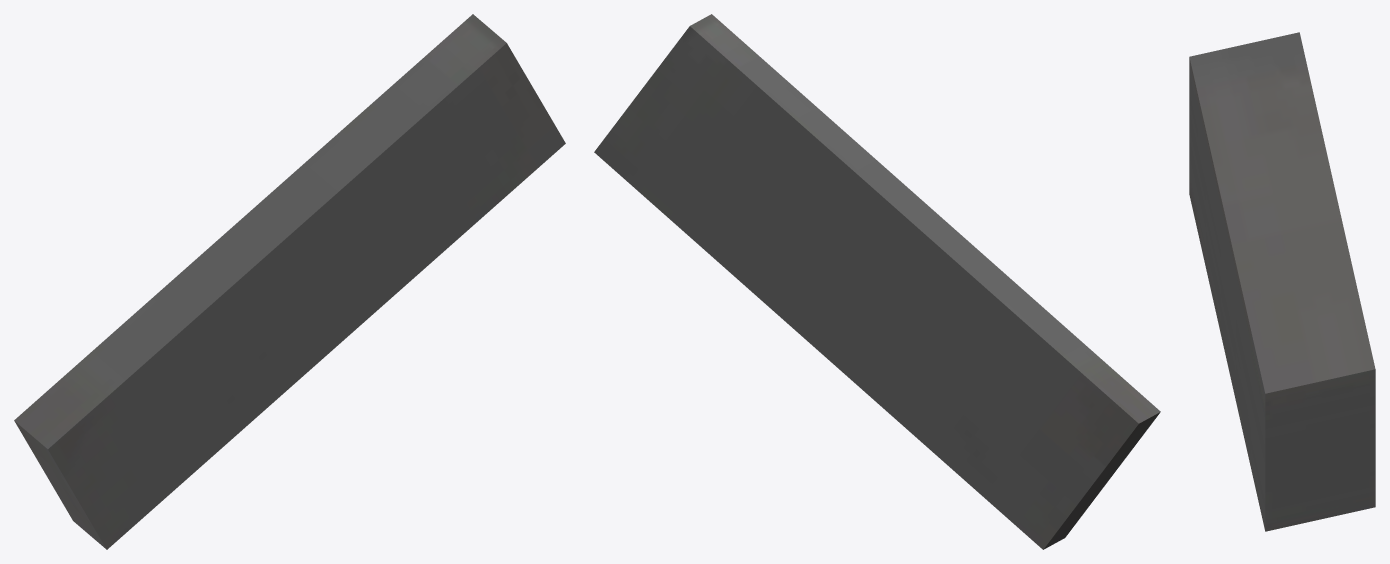
Rendered from fan_left__blade_0.glb.
3 views of the same model, side by side, from view 1: azimuth 30°, elevation 25°; view 2: azimuth 150°, elevation 25°; view 3: azimuth 270°, elevation 25° (orthographic). The views are drawn at different scales.
Parts seen in each view (by area): view 1: world; view 2: world; view 3: world.
Boxes of the visible parts, left/top/right/bottom form: world: left=14, top=14, right=565, bottom=549; world: left=594, top=14, right=1160, bottom=549; world: left=1189, top=32, right=1375, bottom=531.
Size of the model in its own units: 0.0282 by 0.0218 by 0.00428.
Materials: 1 (1 with a texture image).
